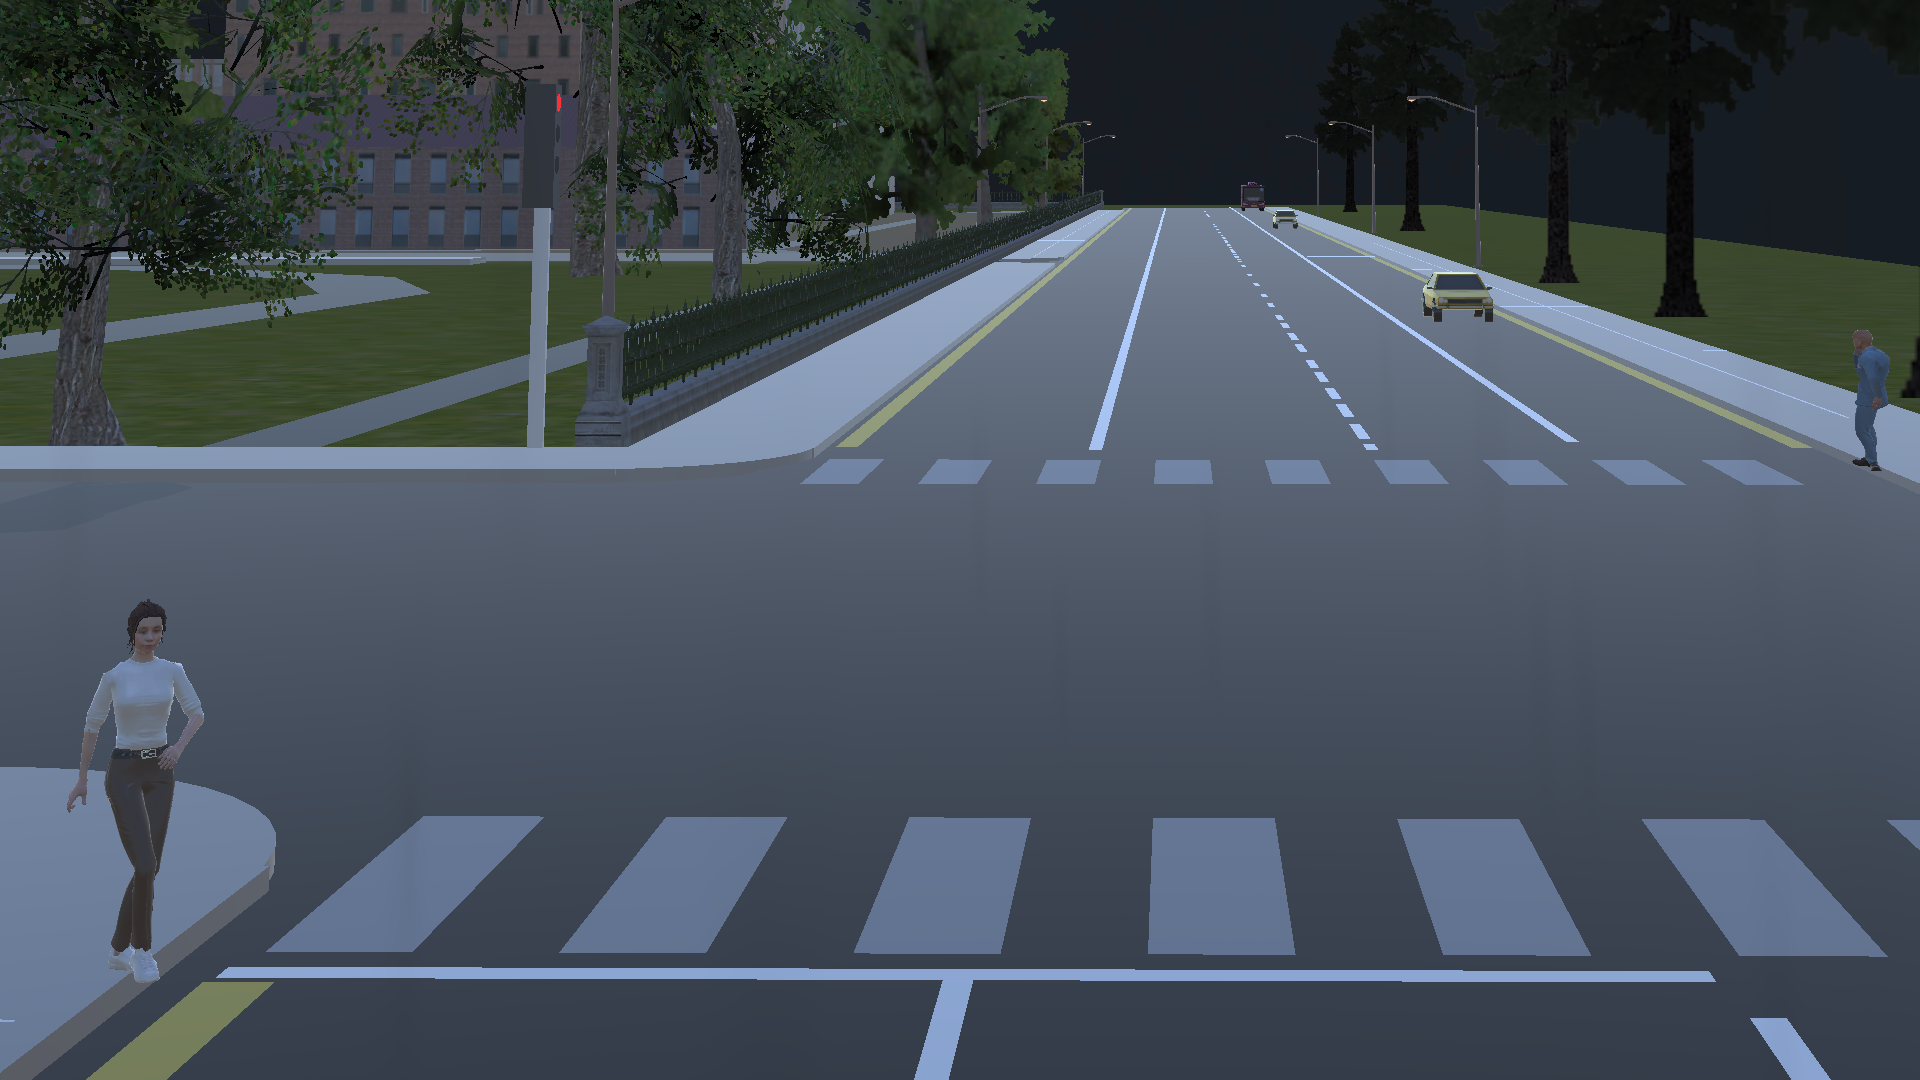pedestrian: (62, 587, 203, 987), (1839, 317, 1902, 491)
